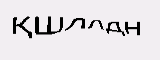А: (33, 12, 54, 37)
Ж: (112, 19, 128, 38)
М: (89, 16, 112, 37)
П: (53, 15, 73, 39)
У: (70, 17, 89, 37)
